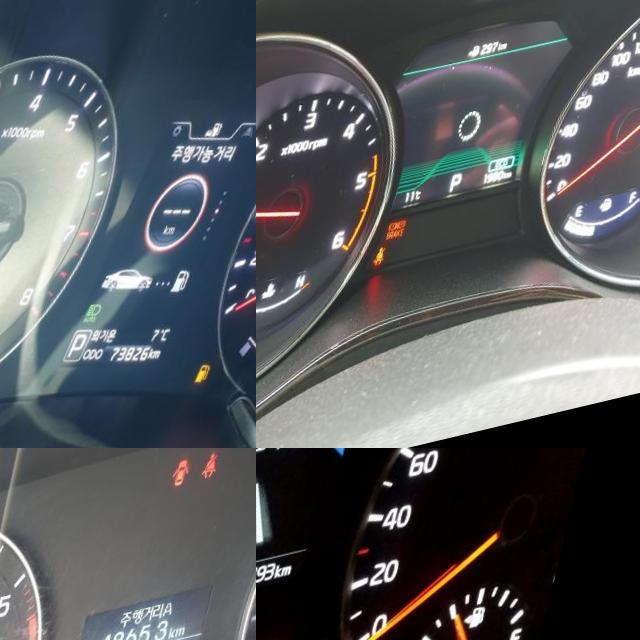Low fuel level: (216, 378, 238, 405)
